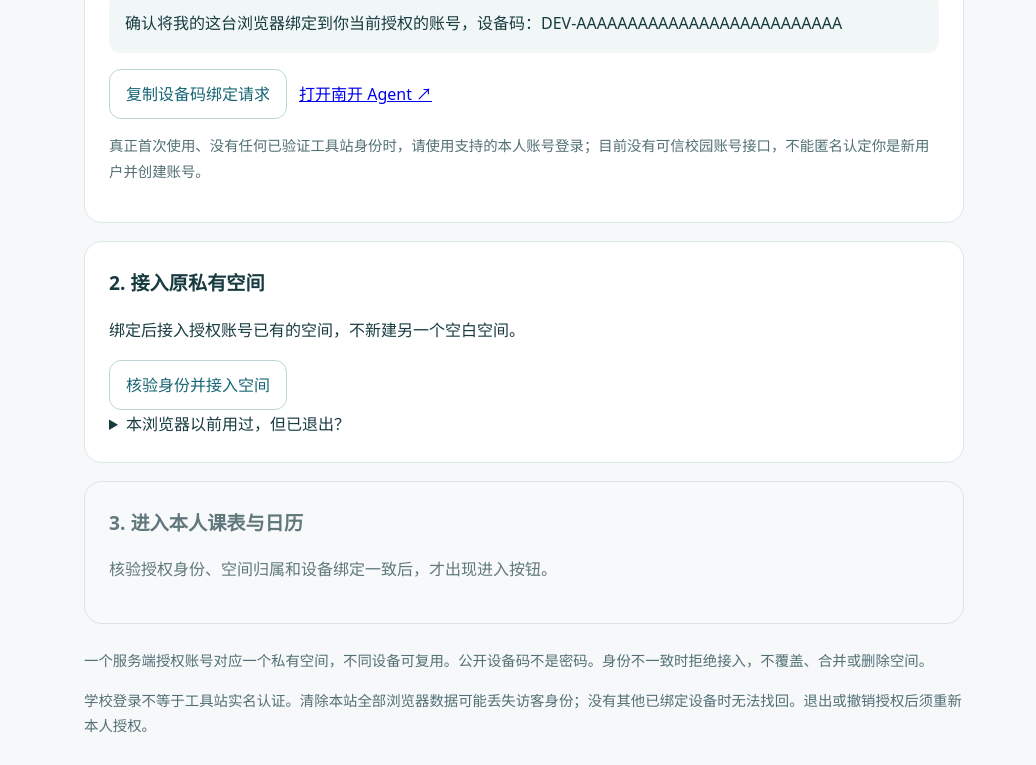
Test: pending request has visible progress, no repeated submission and no navigation
(page scrolled)
Click the button "核验身份并接入空间": (198, 385) top-left (109, 360), bottom-right (287, 410)
(page scrolled)
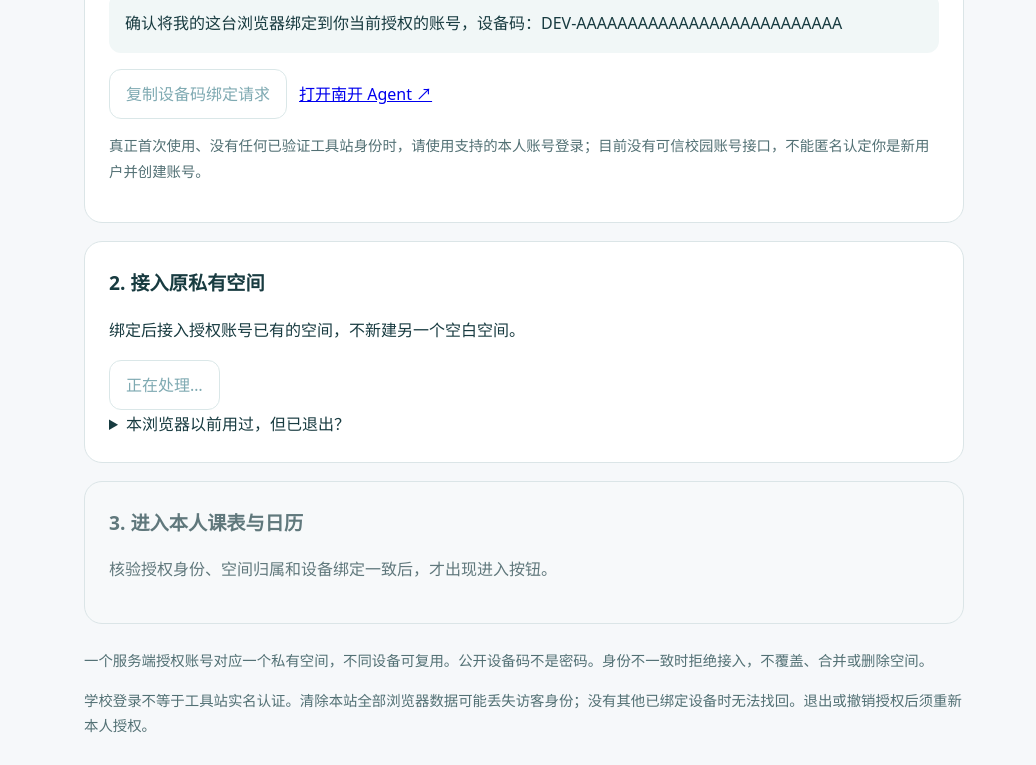
expect the button "正在处理…" is disabled: met
Click the button "正在处理…": (164, 385) top-left (109, 360), bottom-right (220, 410)
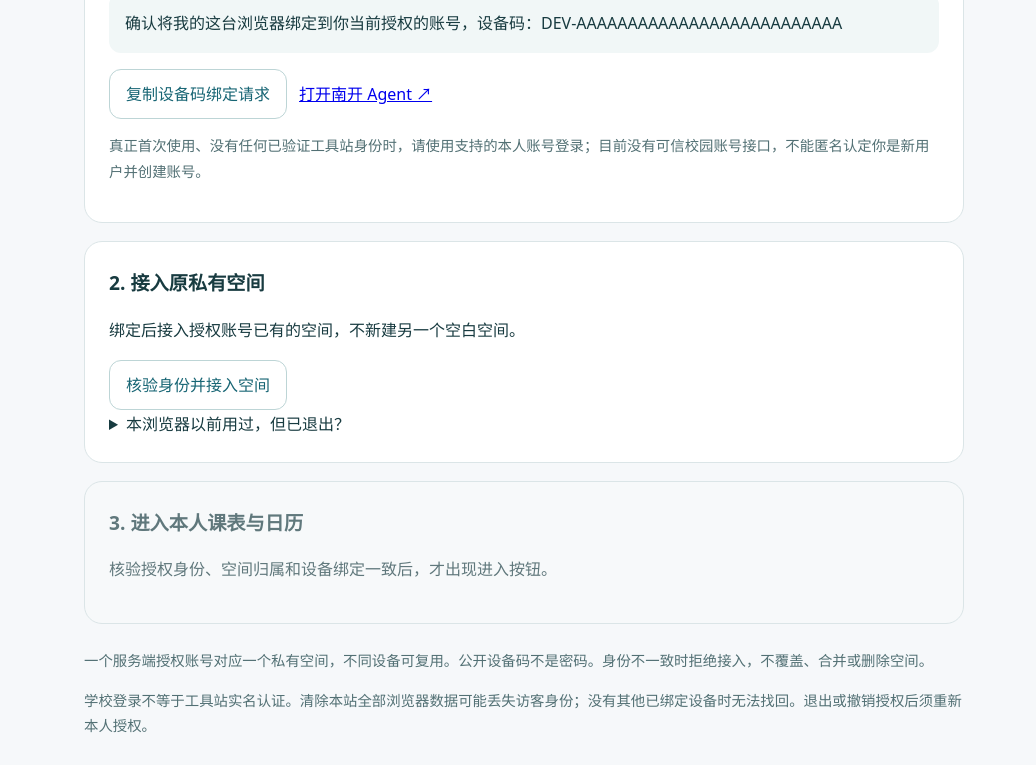
expect the button "核验身份并接入空间" is enabled: met, box top-left (109, 360), bottom-right (287, 410)
